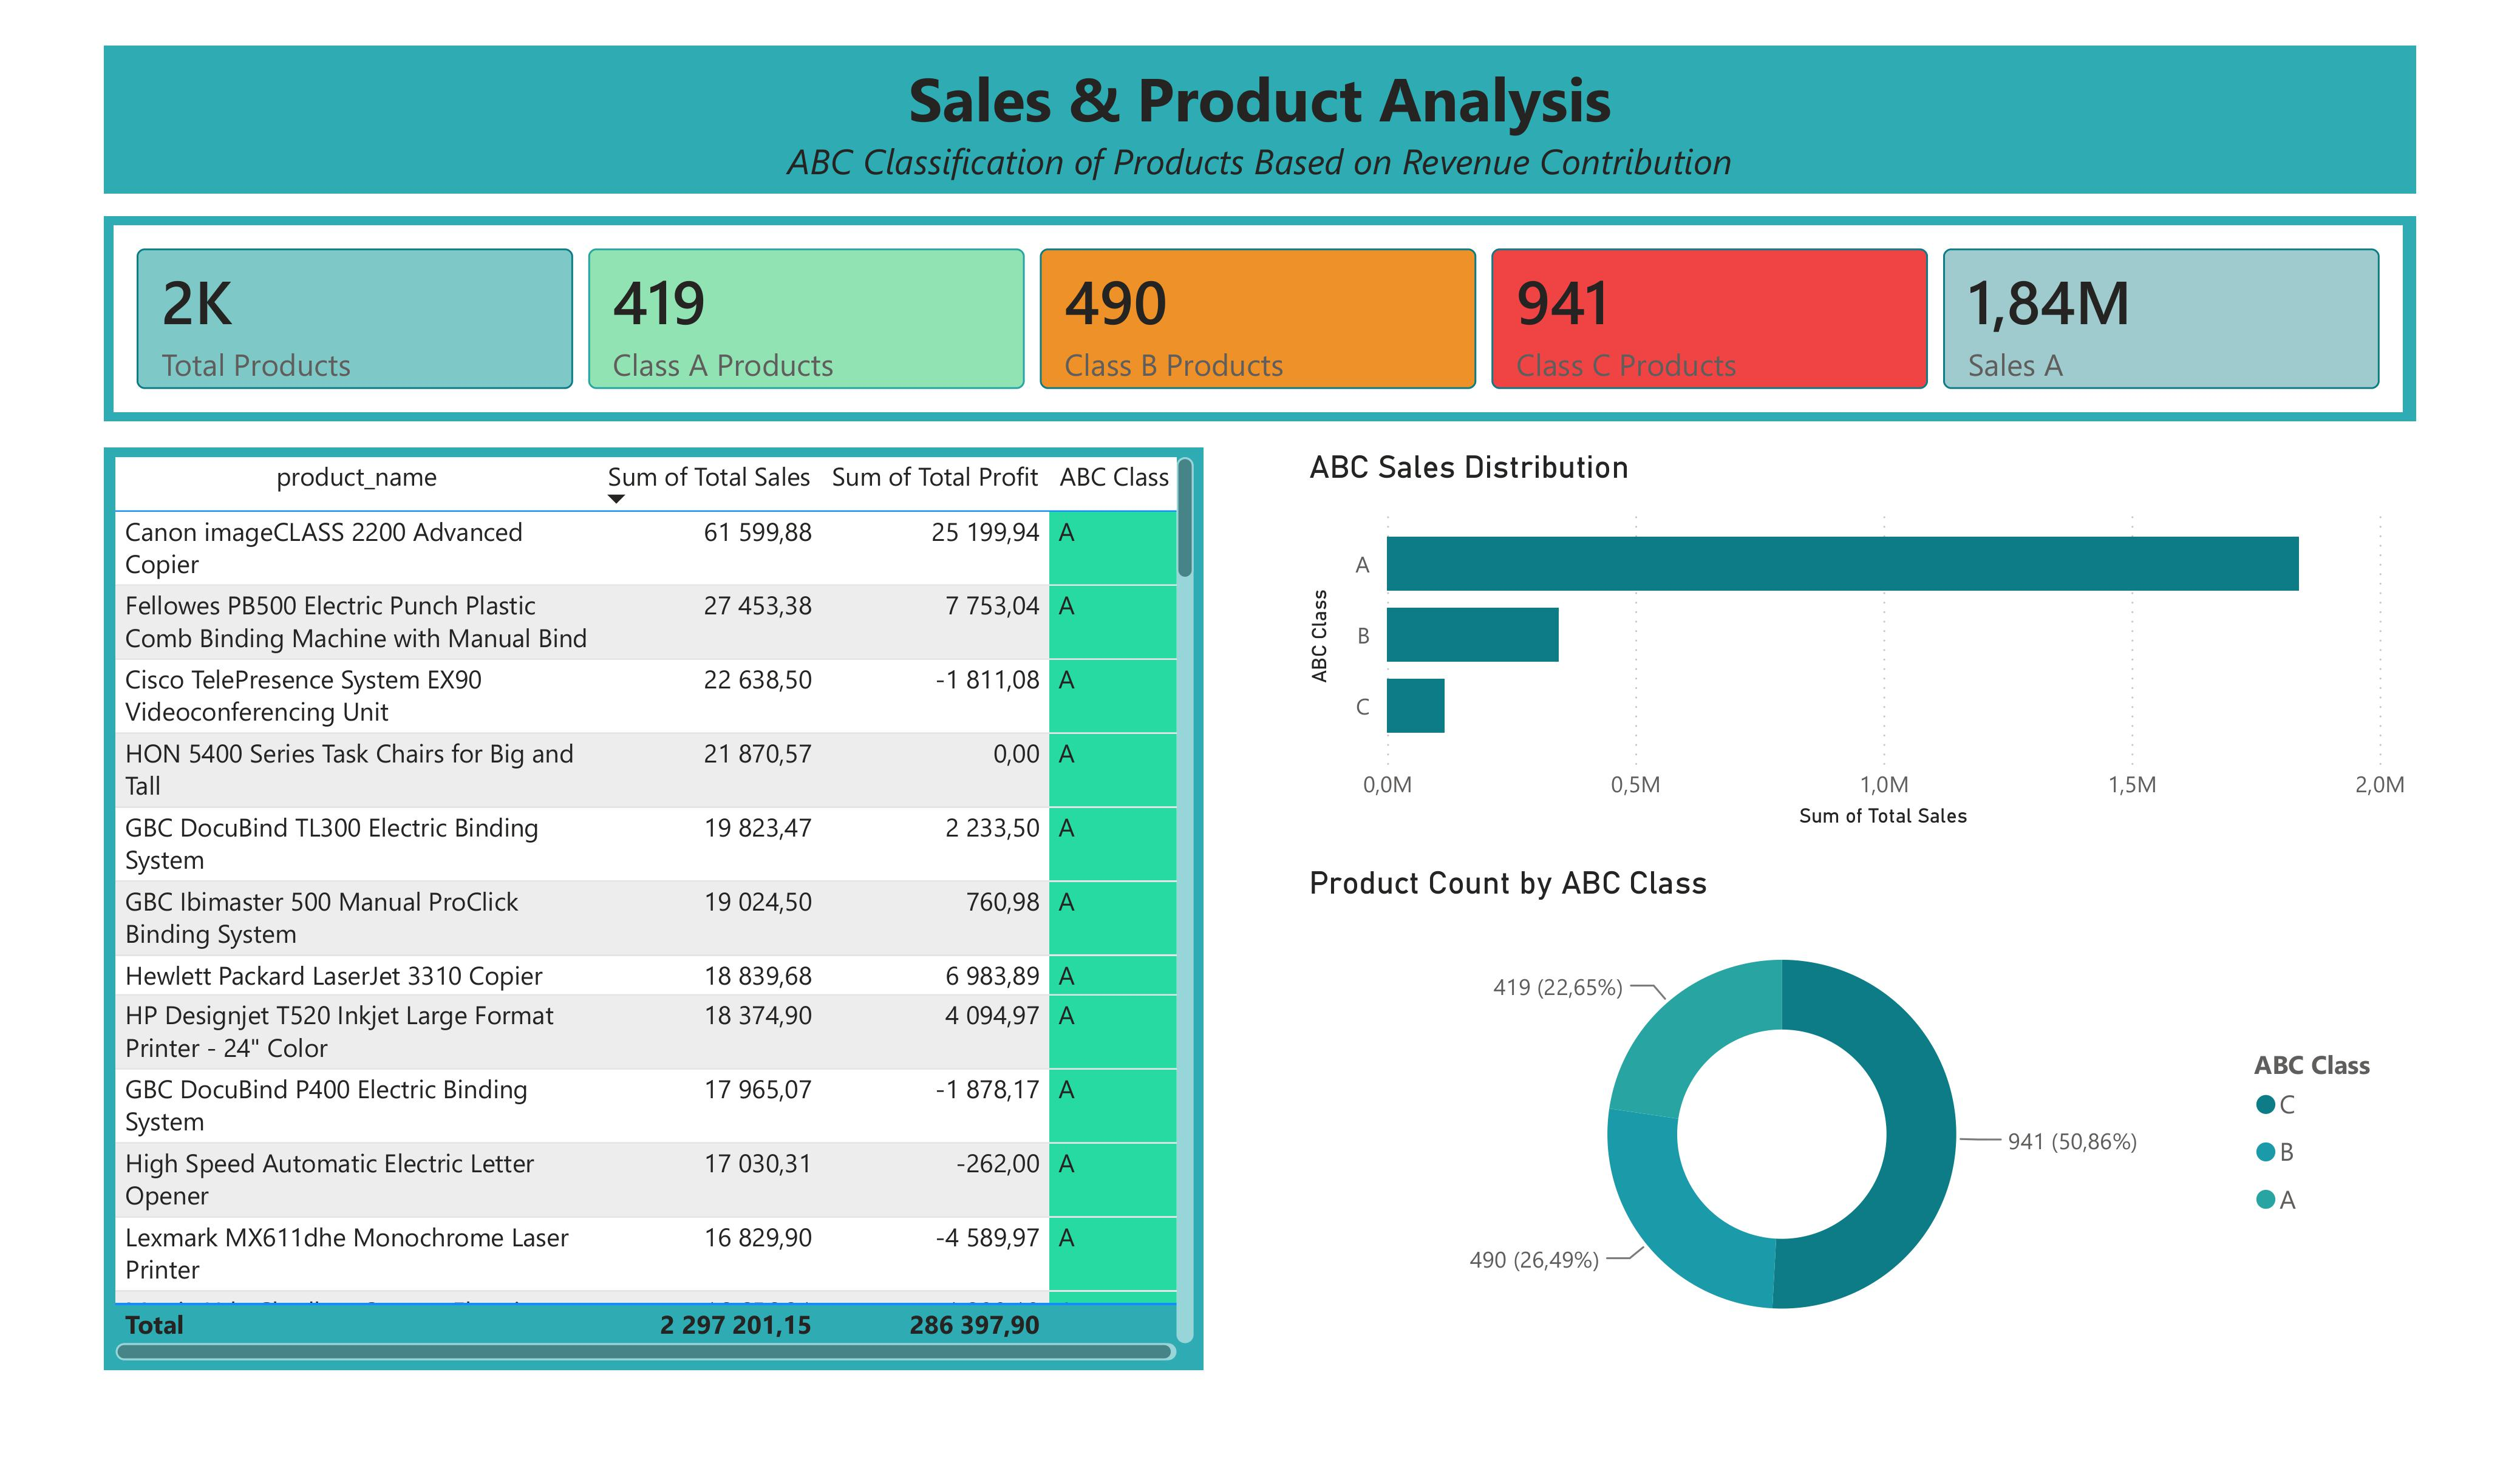

The page's visual inventory and layout, read from the dashboard file:
{"tool":"powerbi","page":{"name":"Sales & Product Analysis","canvas":[1280,720],"ordinal":1},"visuals":[{"type":"barChart","title":"ABC Sales Distribution","fields":{"Category":["Product Summary.ABC Class"],"Y":["Sum(Product Summary.Total Sales)"]},"box":[661,211.9,588.1,205.1],"z":0},{"type":"donutChart","fields":{"Category":["Product Summary.ABC Class"],"Y":["Product Summary.Product Count"]},"box":[661,430.5,588.1,267.8],"z":1000},{"type":"tableEx","fields":{"Values":["Product Summary.product_name","Sum(Product Summary.Total Sales)","Sum(Product Summary.Total Profit)","Product Summary.ABC Class"]},"box":[30.5,211.9,579.7,486.4],"z":2000},{"type":"cardVisual","fields":{"Data":["Product Summary.Total Products","Product Summary.Products A","Product Summary.Products B","Product Summary.Products C","Product Summary.Sales A"]},"box":[30.5,89.8,1218.6,108.5],"z":3000},{"type":"textbox","box":[30.5,0,1218.6,78],"z":5000}]}

Visuals, with their boxes on the page's 1280x720 design canvas (x1, y1, x2, y2). These are canvas units, not pixel positions in the 2520x1457 screenshot, which may show the page scaled, cropped or inside an application window:
"ABC Sales Distribution" barChart: <region>661, 212, 1249, 417</region>
donutChart - Product Summary.ABC Class x Product Summary.Product Count: <region>661, 430, 1249, 698</region>
tableEx - Product Summary.product_name x Sum(Product Summary.Total Sales): <region>30, 212, 610, 698</region>
cardVisual - Product Summary.Total Products x Product Summary.Products A: <region>30, 90, 1249, 198</region>
textbox: <region>30, 0, 1249, 78</region>
